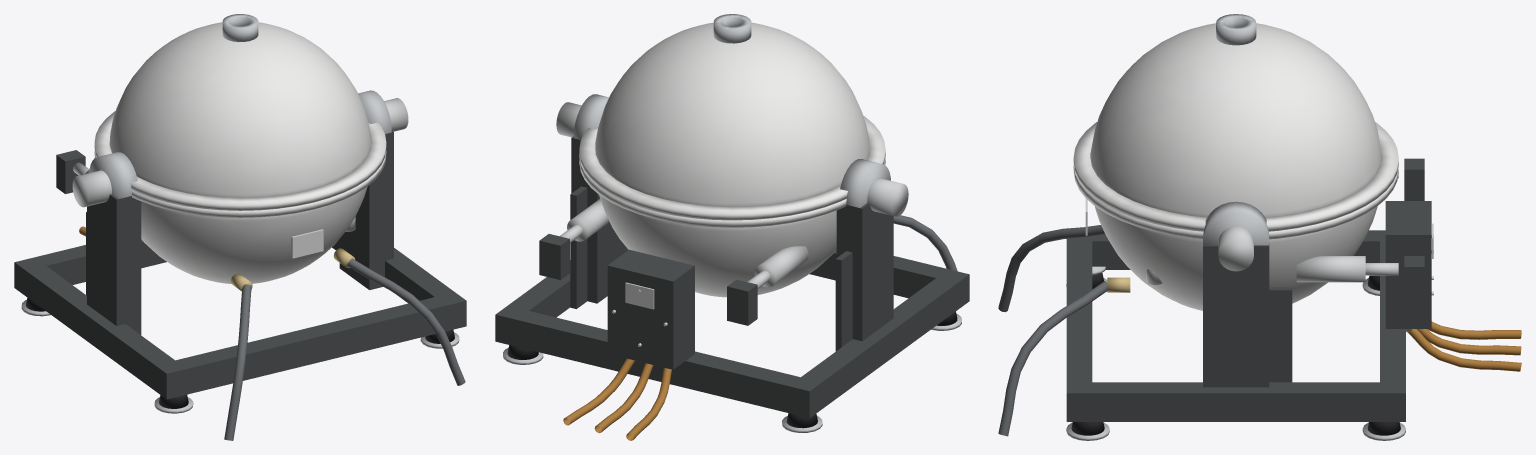
File: giroscopio.glb
3 renders of one model, left to right at view 1: azimuth 30°, elevation 25°; view 2: azimuth 150°, elevation 25°; view 3: azimuth 270°, elevation 25°, orthographic. The views are drawn at different scales.
Parts seen in each view (by area): view 1: gyro_calotta_MESH, gyro_basamento_MESH, gyro_sfera_MESH, gyro_cardano_MESH; view 2: gyro_basamento_MESH, gyro_calotta_MESH, gyro_sfera_MESH, gyro_cardano_MESH; view 3: gyro_calotta_MESH, gyro_basamento_MESH, gyro_sfera_MESH, gyro_cardano_MESH.
Part boxes in pixels (x1,y1,x2,y2): gyro_calotta_MESH: (94, 14, 386, 210); gyro_basamento_MESH: (14, 130, 466, 413); gyro_sfera_MESH: (94, 151, 465, 440); gyro_cardano_MESH: (72, 90, 408, 207); gyro_basamento_MESH: (495, 136, 969, 440); gyro_calotta_MESH: (579, 14, 885, 220); gyro_sfera_MESH: (579, 156, 957, 297); gyro_cardano_MESH: (556, 94, 908, 288); gyro_calotta_MESH: (1073, 14, 1398, 231); gyro_basamento_MESH: (1066, 158, 1521, 440); gyro_sfera_MESH: (998, 165, 1398, 436); gyro_cardano_MESH: (1203, 174, 1398, 282).
Size of the model in its own units: 1.43 by 1.35 by 1.82.
